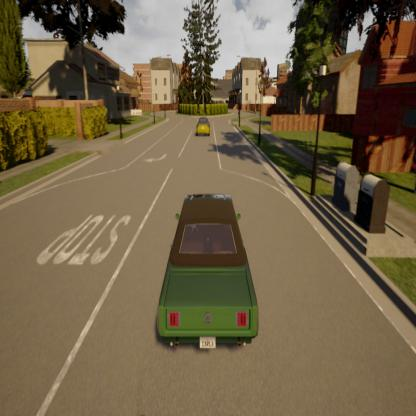Cars: (152, 179, 262, 356), (194, 115, 214, 140)
